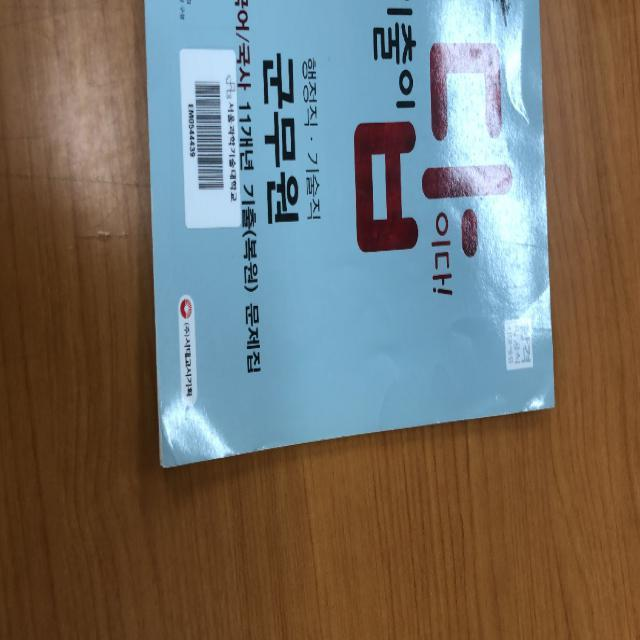Wornout: (228, 437, 291, 457)
